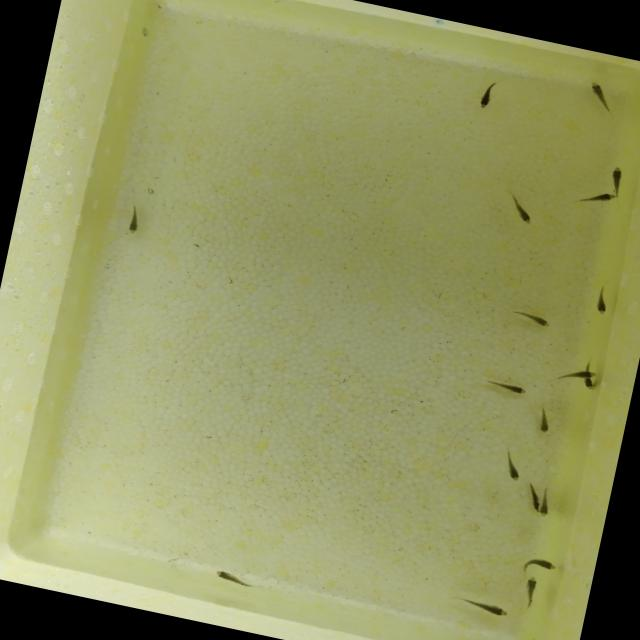fingerling: (578, 78, 628, 123), (205, 562, 265, 596), (454, 592, 512, 622), (500, 188, 540, 228), (572, 185, 618, 212), (506, 306, 554, 331), (481, 375, 531, 398), (498, 446, 527, 484), (518, 574, 546, 613), (119, 201, 148, 238), (474, 76, 502, 113), (520, 552, 562, 575), (590, 282, 614, 316), (532, 404, 556, 436), (605, 163, 627, 192), (564, 366, 598, 380), (534, 501, 555, 521), (524, 482, 540, 503), (581, 380, 596, 390)
